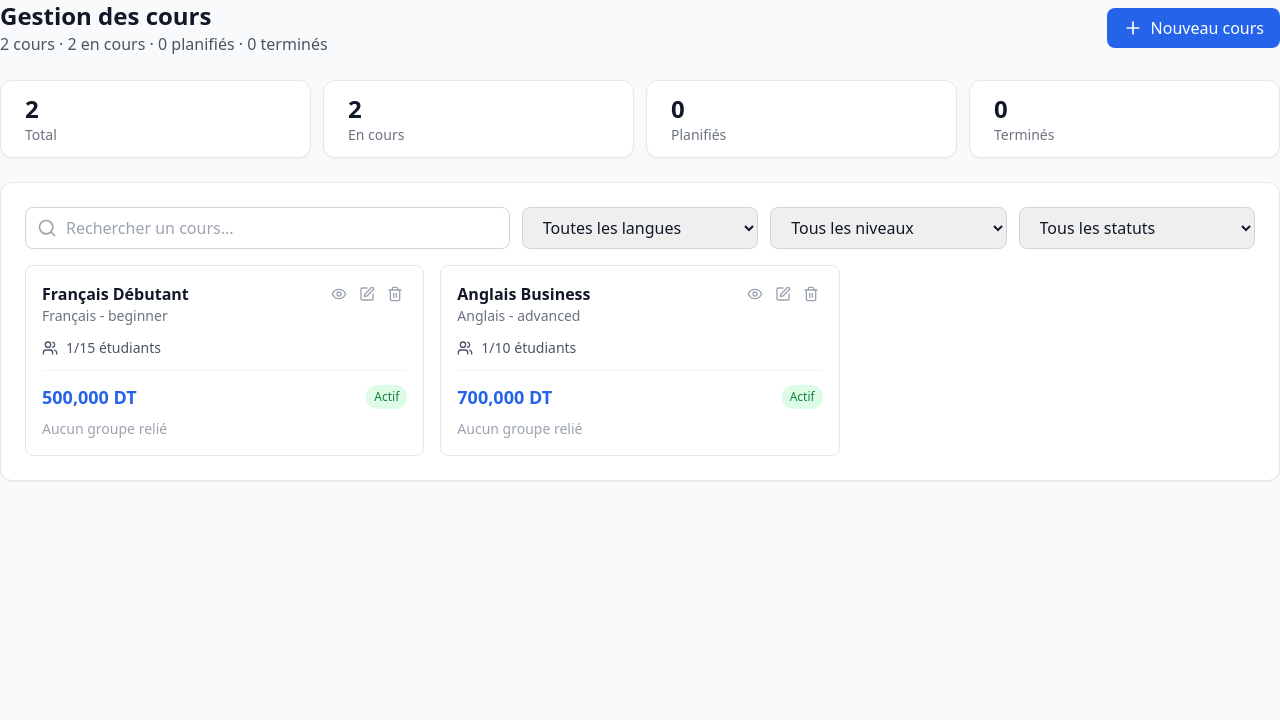
it: Courses page — règle des langues actives › opens a detail drawer with students and sessions
Step 1. Click the button named "Consulter Français Débutant" → (339, 294), box [327,282,351,306]
(page scrolled)
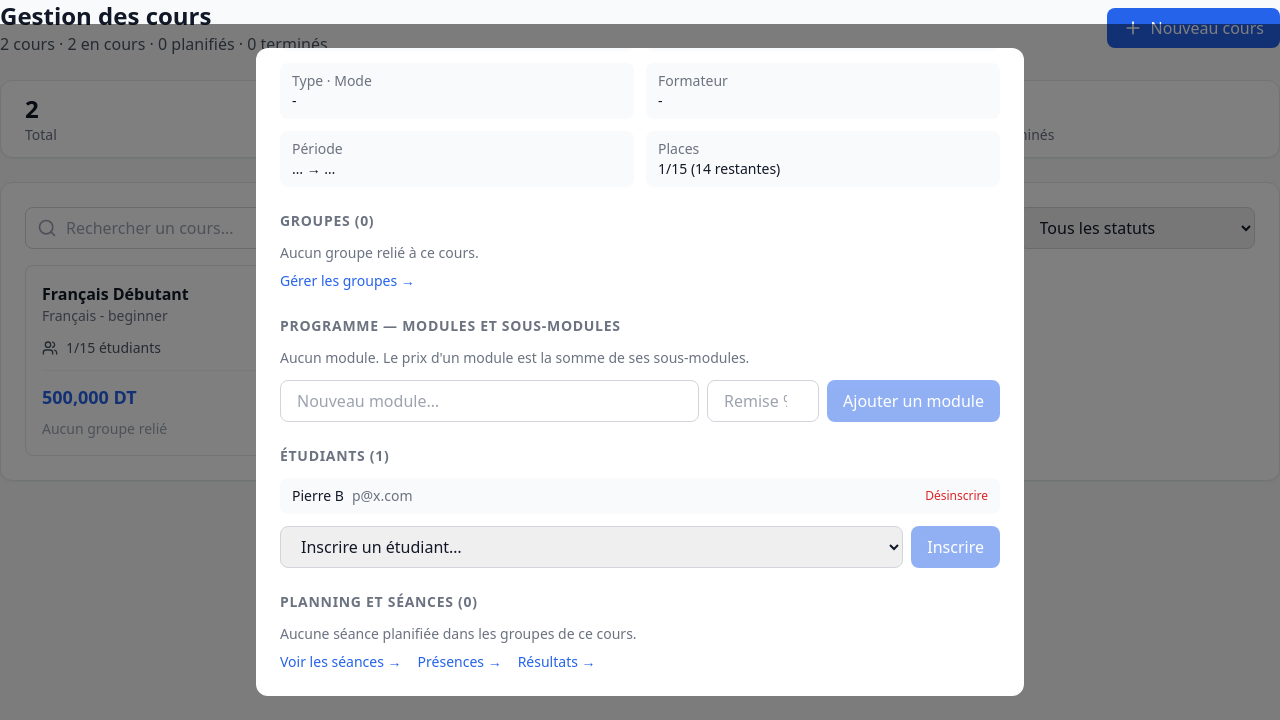
expect the text "Pierre" is shown: met, box [292,486,331,505]
expect the heading "Planning et séances (0)" is shown: met, box [280,592,478,611]
